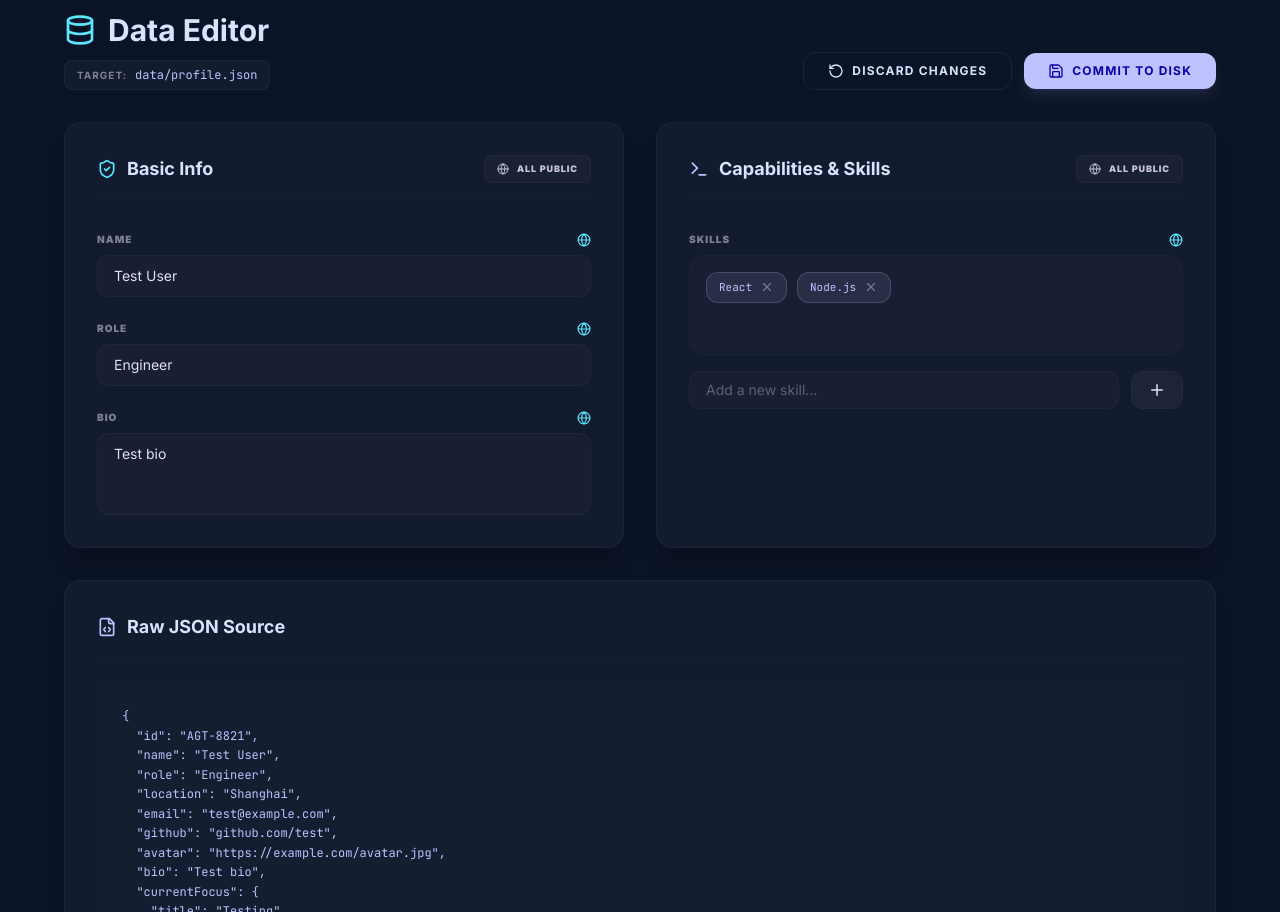
Test: DataEditorView › shows save success message after clicking commit
Expected: the button "Discard Changes" is shown, [803,52,1012,90]
Click the button "Commit to Disk" at (1120,71), box [1024,53,1216,89]
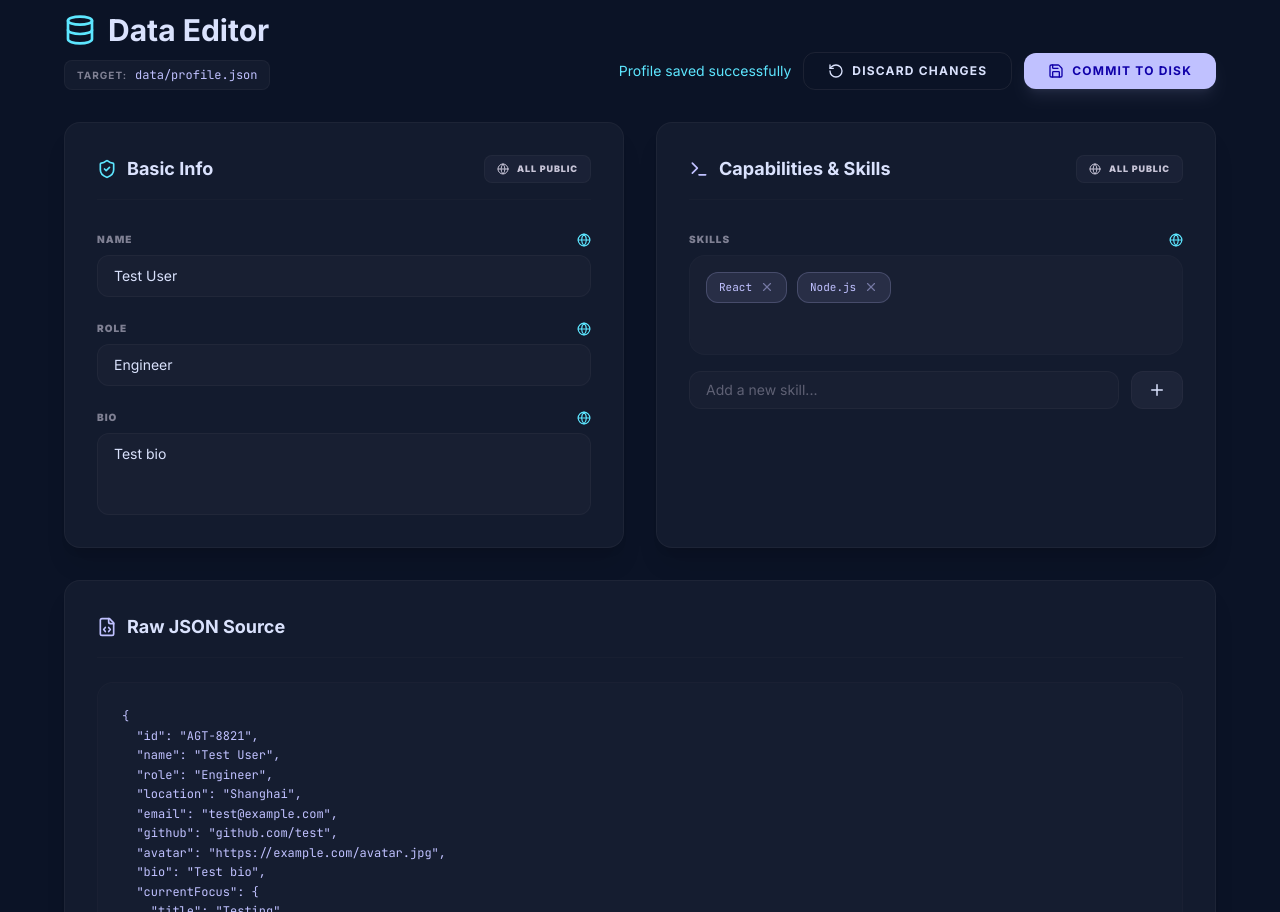
Now the text "Profile saved successfully" is shown, box [619,61,791,81]
